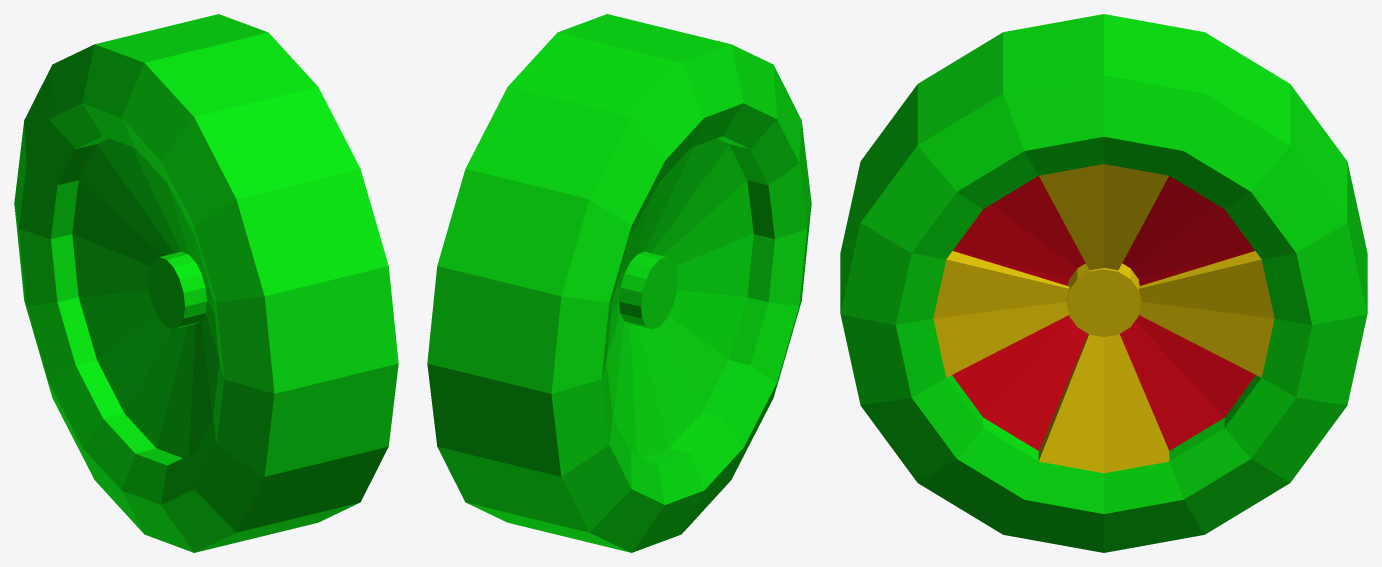
The model's file is SportCarWheel.fbx.
3 views of the same model, side by side, from view 1: azimuth 30°, elevation 25°; view 2: azimuth 150°, elevation 25°; view 3: azimuth 270°, elevation 25° (orthographic).
Parts seen in each view (by area): view 1: rengas; view 2: rengas; view 3: rengas.
Part boxes in pixels (left/top/right/bottom): rengas: left=14, top=14, right=398, bottom=552; rengas: left=427, top=14, right=811, bottom=552; rengas: left=840, top=14, right=1367, bottom=552.
Bounding box in the file's own units: 24.37 × 64.72 × 64.72.
